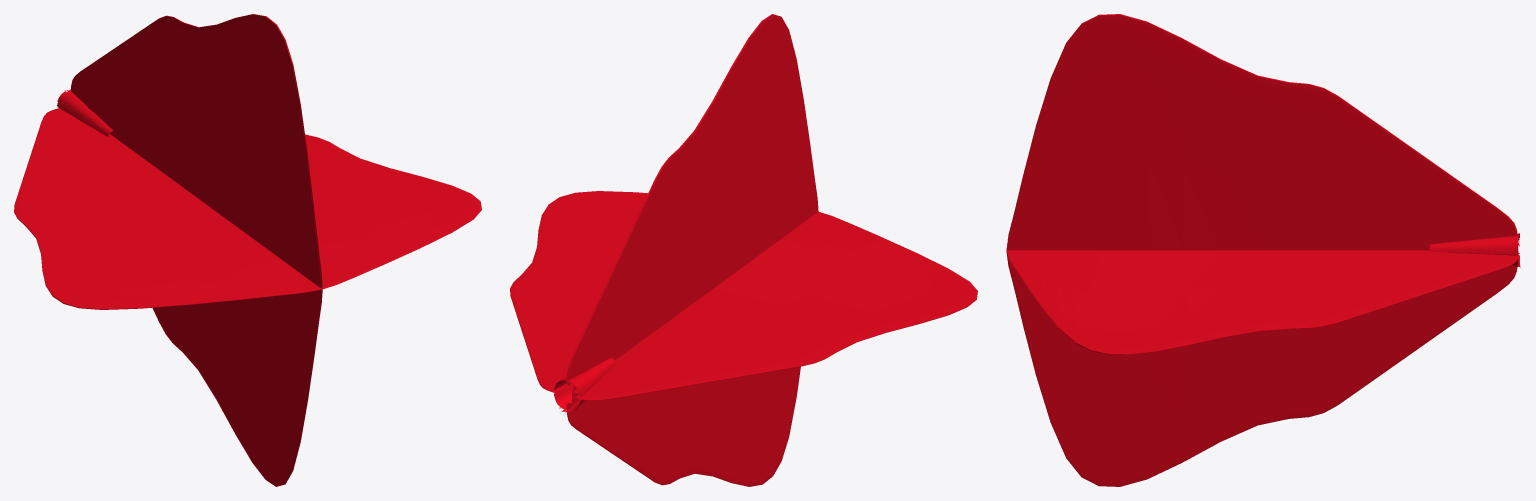
File: tail_2.glb
3 renders of one model, left to right at view 1: azimuth 30°, elevation 25°; view 2: azimuth 150°, elevation 25°; view 3: azimuth 270°, elevation 25°, orthographic.
Parts seen in each view (by area): view 1: dart_tail_2; view 2: dart_tail_2; view 3: dart_tail_2.
Boxes of the visible parts, <box> form: dart_tail_2: <box>14,14,481,486</box>; dart_tail_2: <box>510,14,977,486</box>; dart_tail_2: <box>1006,14,1520,486</box>.
Size of the model in its own units: 0.4973 by 0.5262 by 0.52.
